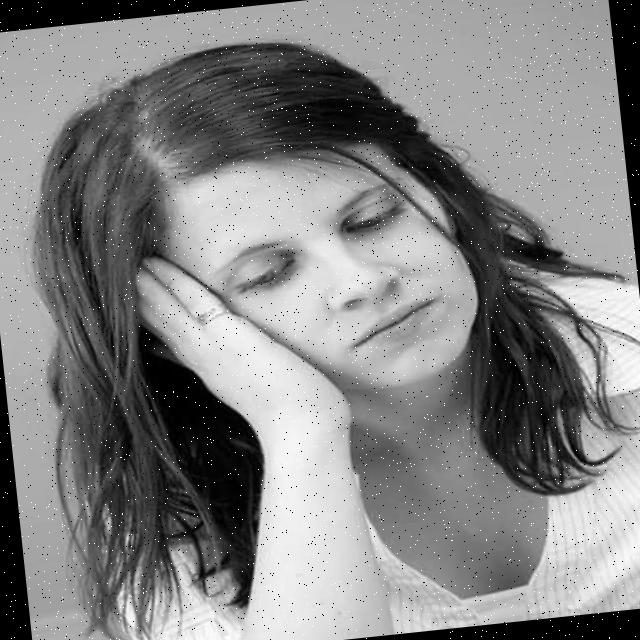Sadness: (172, 139, 489, 410)
